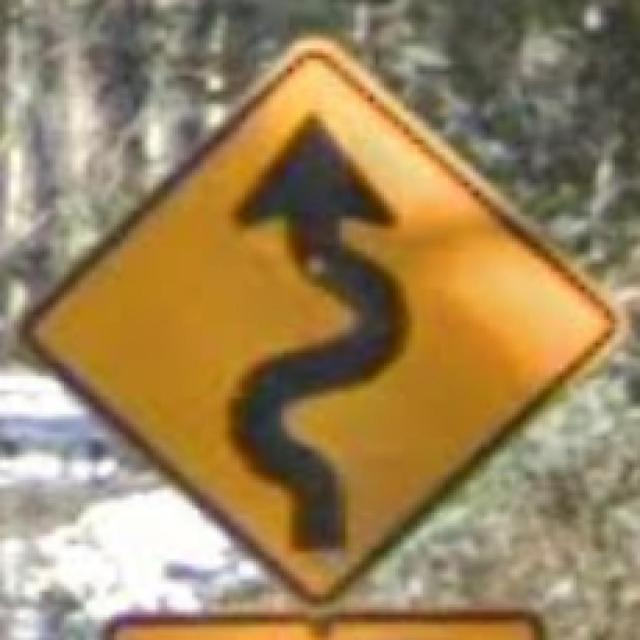Banyak Tikungan Pertama Kiri: (14, 28, 617, 607)
